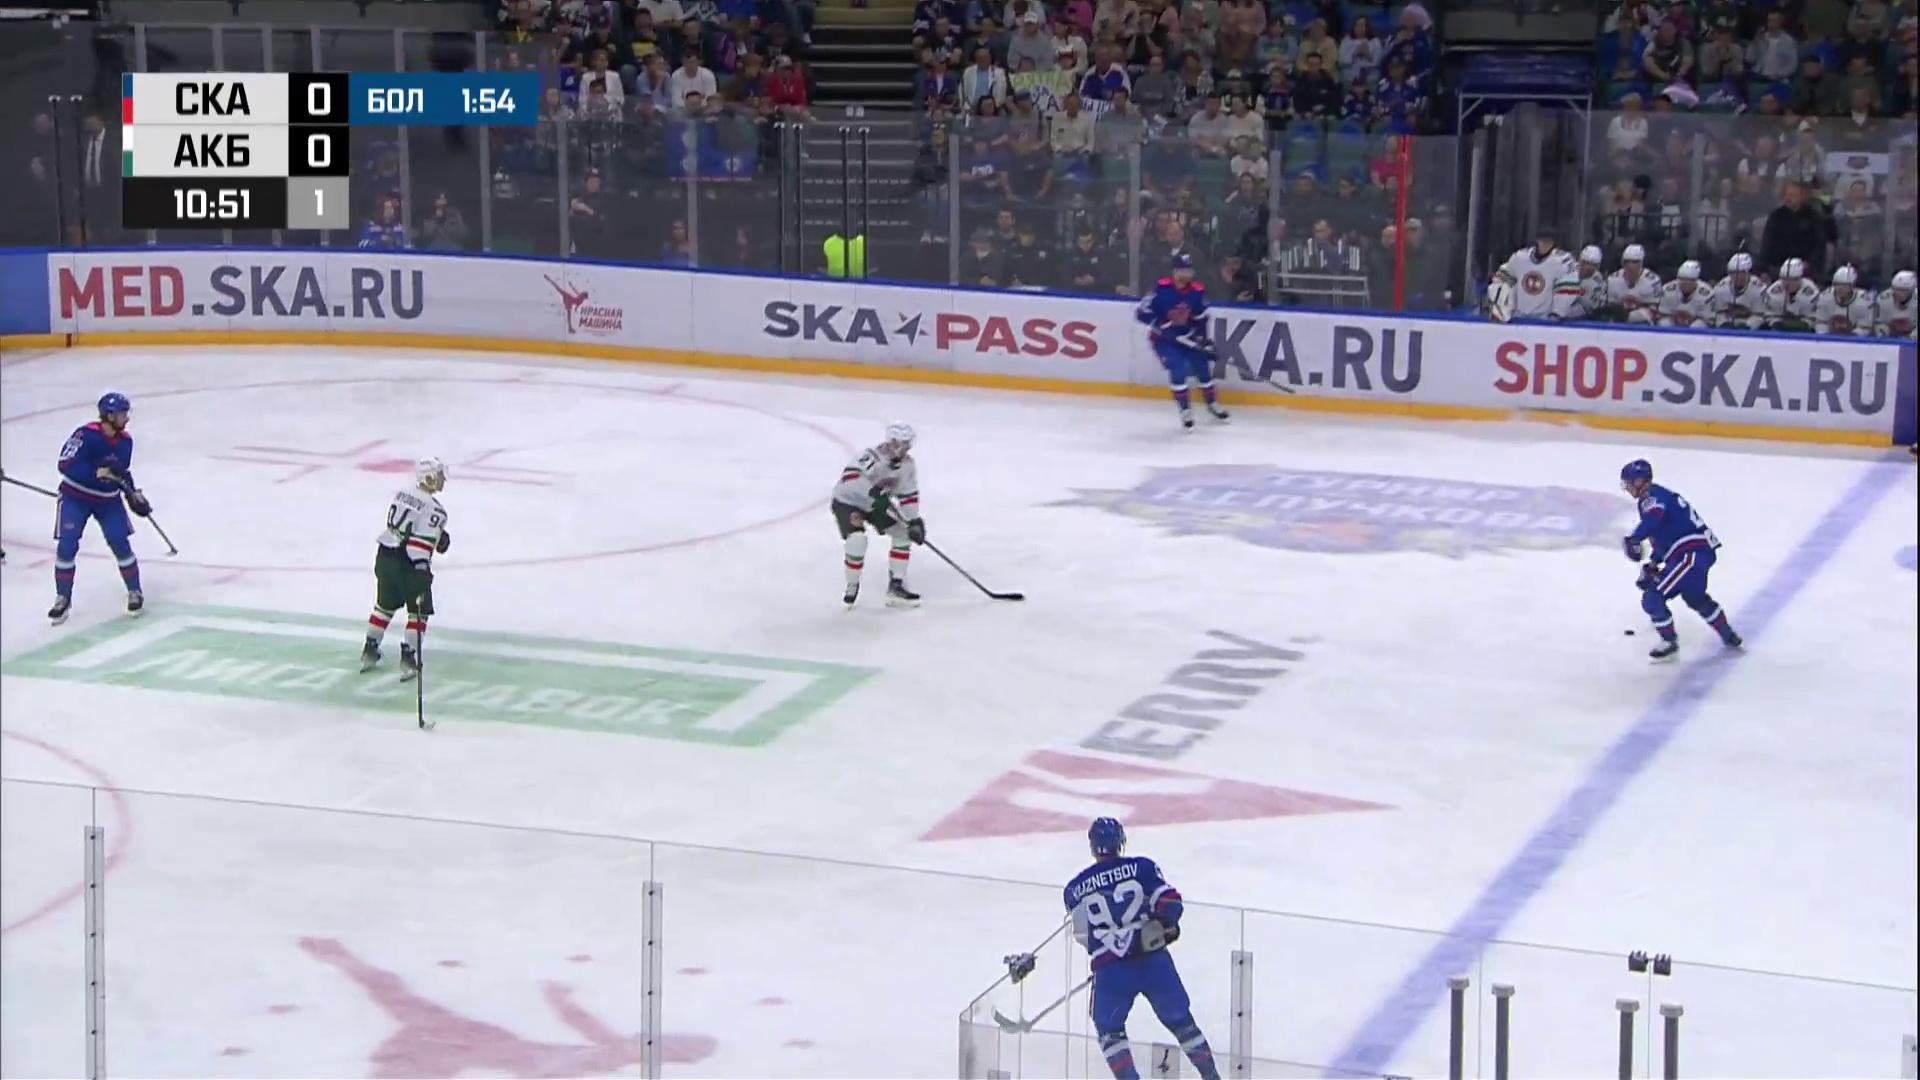ball: (1623, 630, 1635, 637)
